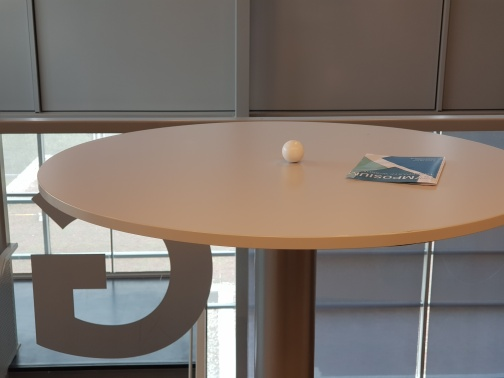egg: (280, 138, 305, 165)
